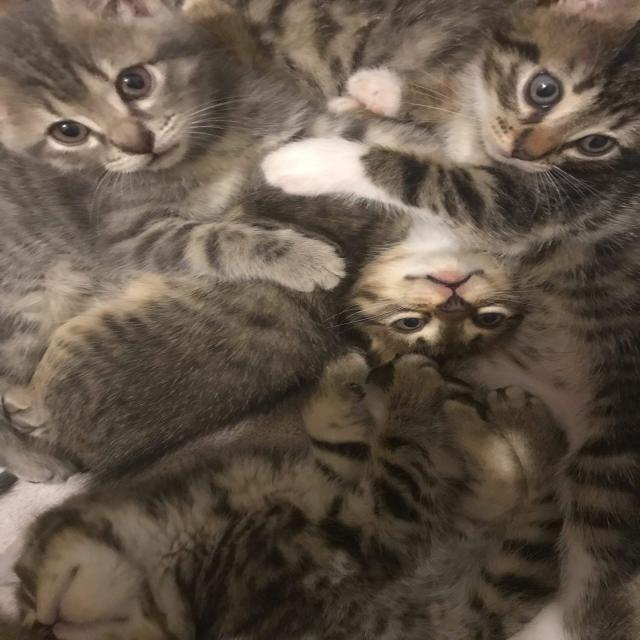cat: (262, 0, 640, 640), (47, 96, 519, 476), (0, 0, 345, 485), (0, 348, 560, 640), (244, 0, 640, 367)
